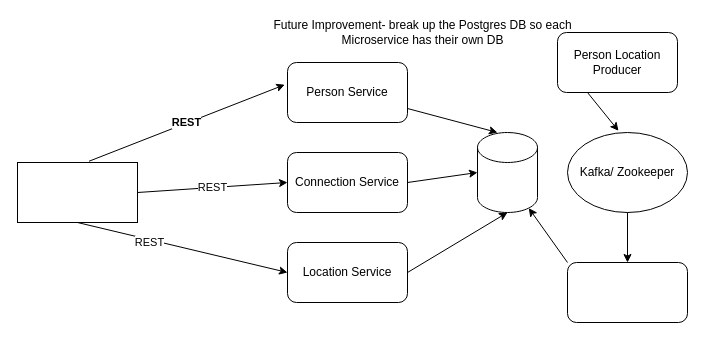
The diagram is 705 pixels wide and 340 high, and some of its shapes have lost their labels. Here are the shapes that lost their labels. From the top down, the box of each, then its label:
(16, 162, 138, 222): Front End
(476, 132, 538, 212): Postgres DB
(566, 262, 688, 322): Person Location Consumer
